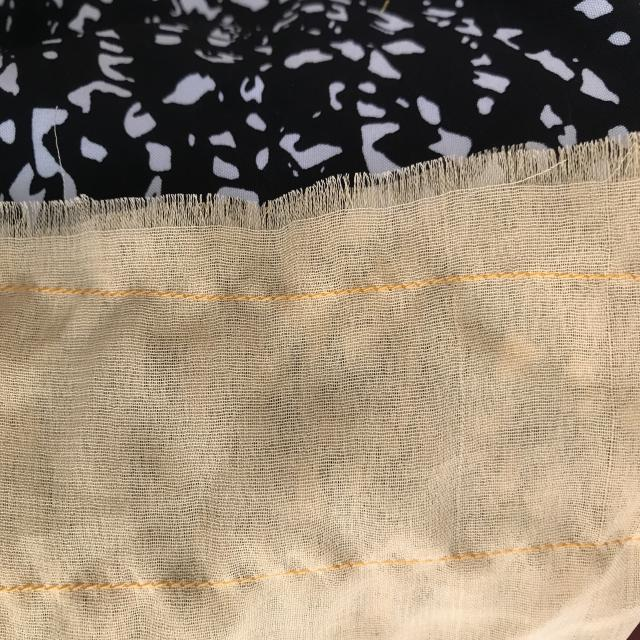good: (22, 571, 163, 604), (36, 277, 141, 311), (155, 283, 241, 311), (363, 274, 439, 300), (260, 290, 341, 308)
